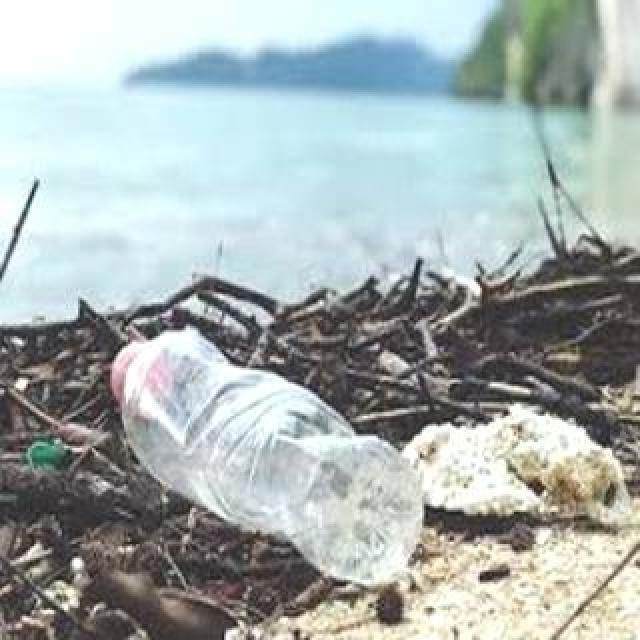Pet_Bottle: (111, 328, 423, 596)
